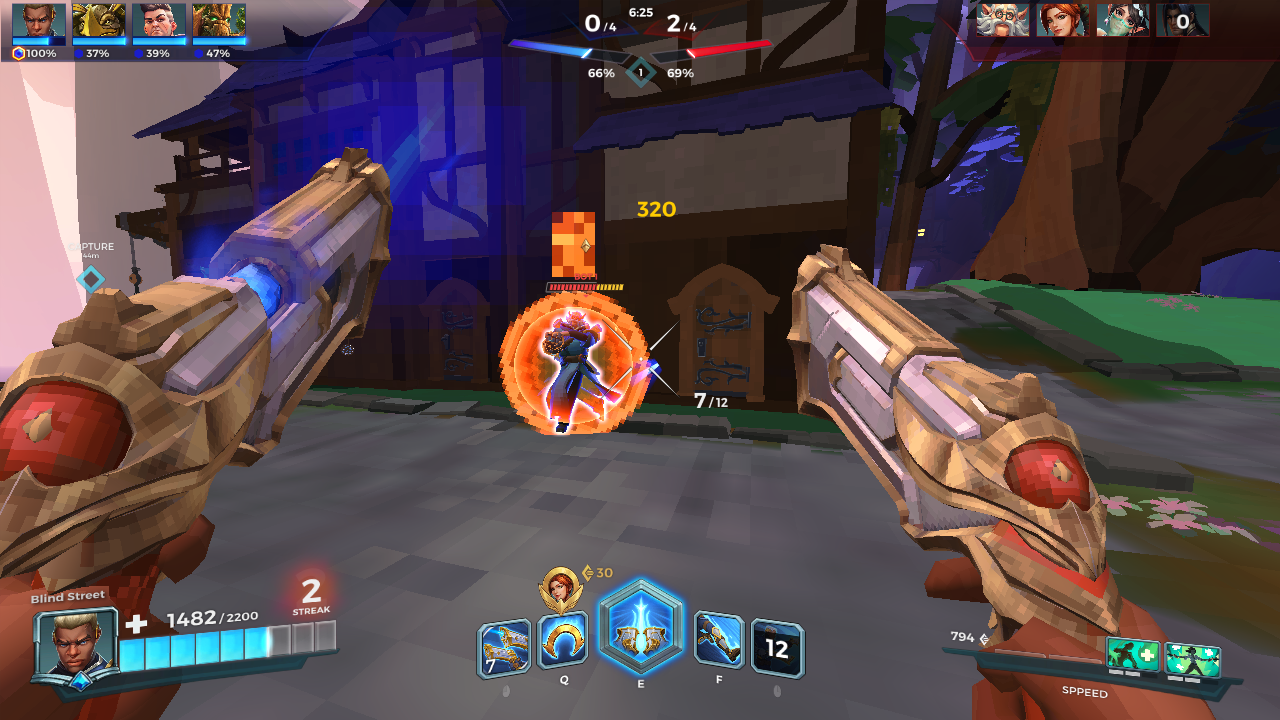model: (532, 304, 619, 436)
